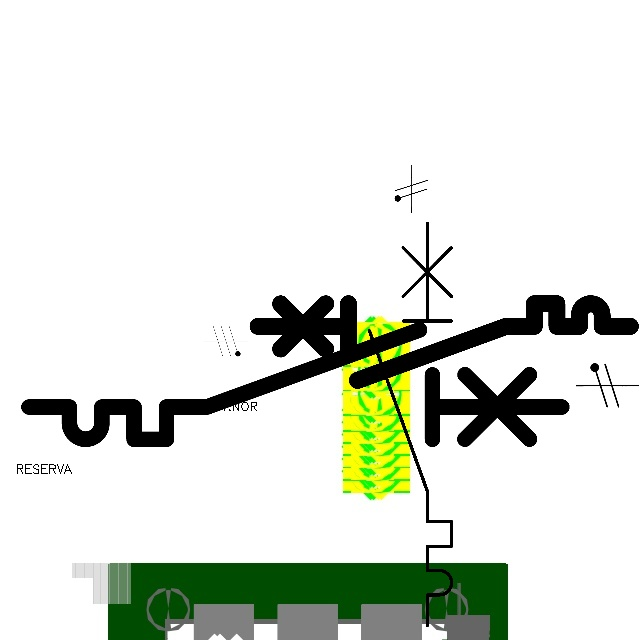interruptor_termomagnetico: (15, 316, 575, 453), (359, 212, 462, 635), (248, 294, 640, 390)
